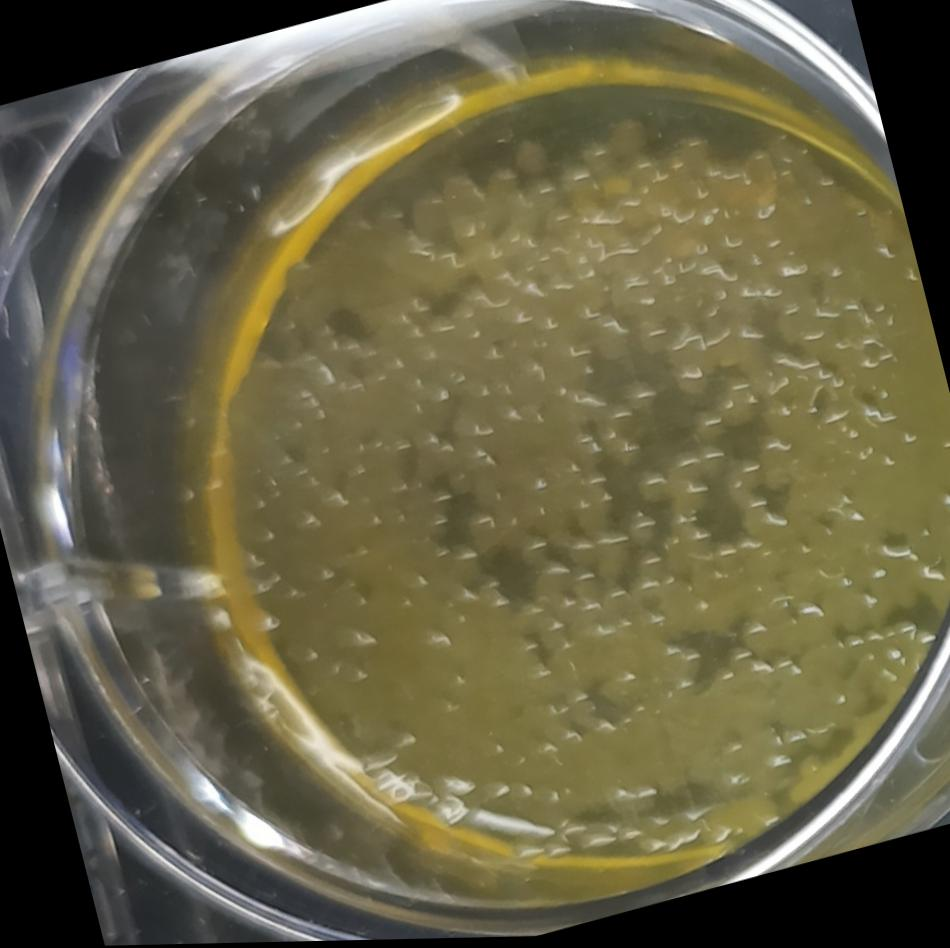vangil: (398, 153, 527, 269)
